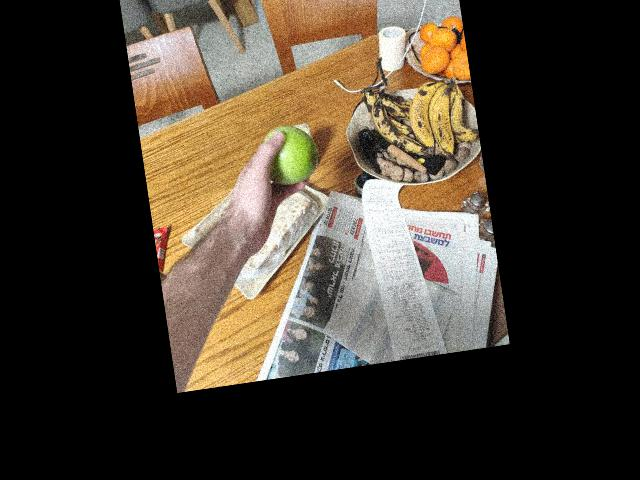apple: (251, 118, 319, 195)
